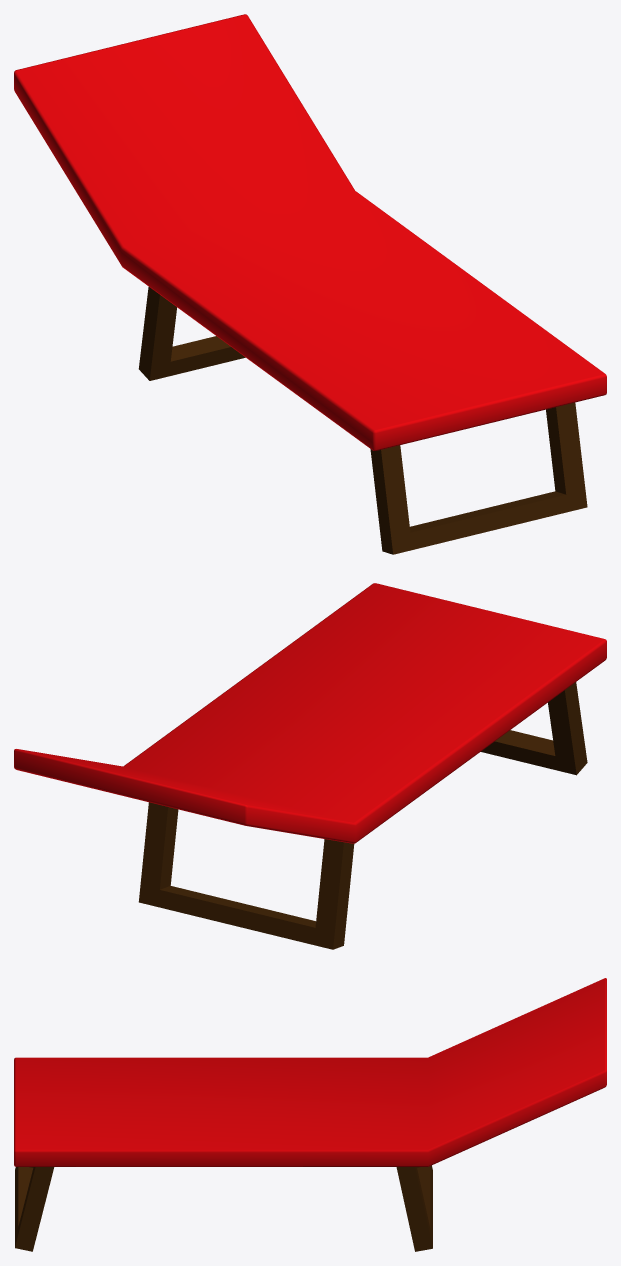
The model's file is strandstoel2.fbx.
3 views of the same model, one above another, from view 1: azimuth 30°, elevation 25°; view 2: azimuth 150°, elevation 25°; view 3: azimuth 270°, elevation 25° (orthographic). The views are drawn at different scales.
Visible parts, largest first — view 1: Cube.003; view 2: Cube.003; view 3: Cube.003.
Part boxes in pixels (<box>): Cube.003: <box>14,14,606,554</box>; Cube.003: <box>14,583,606,949</box>; Cube.003: <box>14,978,606,1251</box>.
Size of the model in its own units: 0.7236 by 0.6789 by 1.93.
